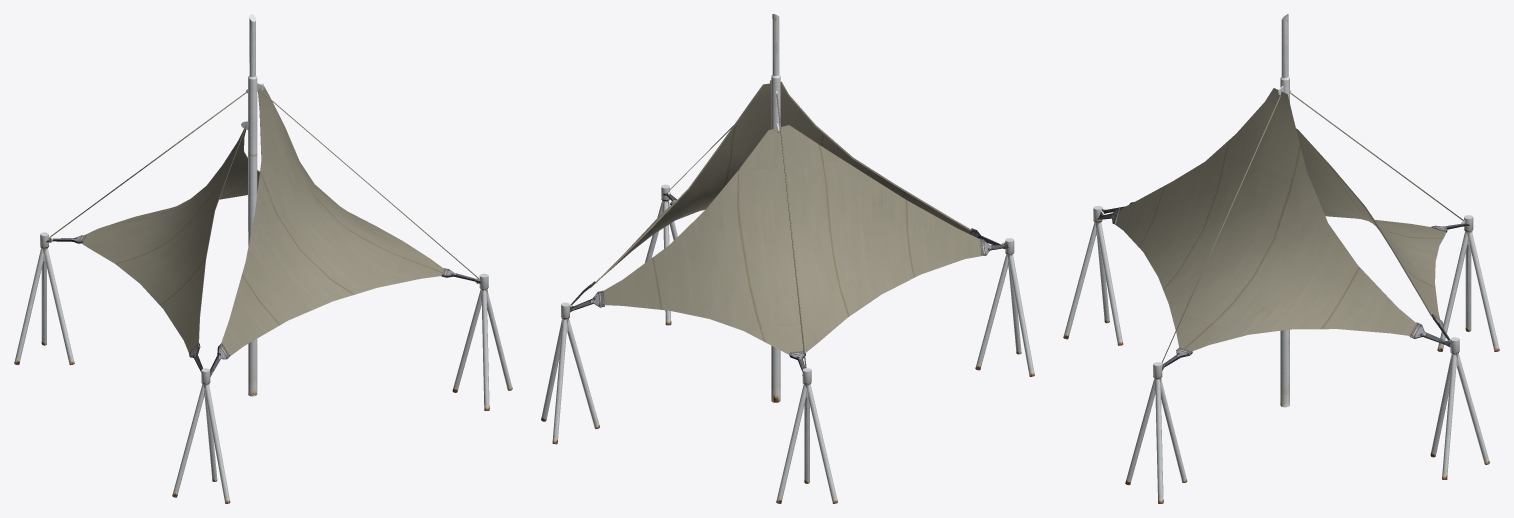
Rendered from Building_ShedWhite.FBX.
3 renders of one model, left to right at view 1: azimuth 30°, elevation 25°; view 2: azimuth 150°, elevation 25°; view 3: azimuth 270°, elevation 25°, orthographic. The views are drawn at different scales.
Visible parts, largest first — view 1: Building_ShedWhite; view 2: Building_ShedWhite; view 3: Building_ShedWhite.
Boxes of the visible parts, x1,y1,x2,y2 form: Building_ShedWhite: [14, 14, 512, 503]; Building_ShedWhite: [541, 14, 1034, 503]; Building_ShedWhite: [1063, 14, 1499, 503].
Bounding box in the file's own units: 1411 × 1398 × 1414.
